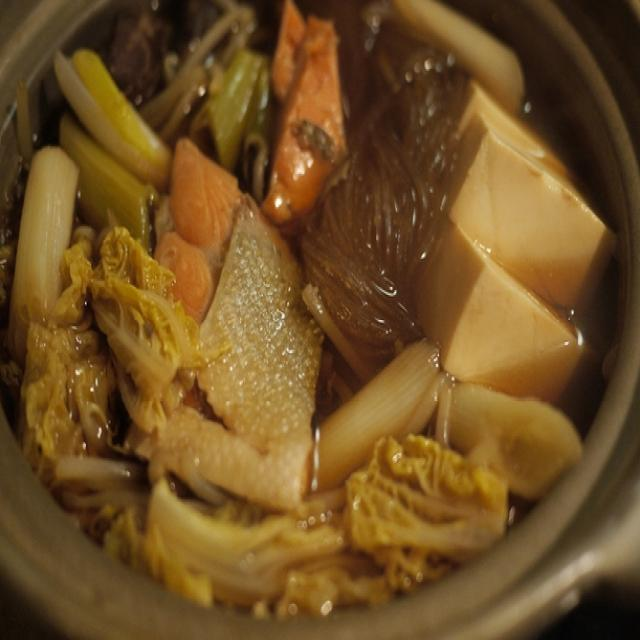汤锅炖物: (9, 13, 617, 621)
